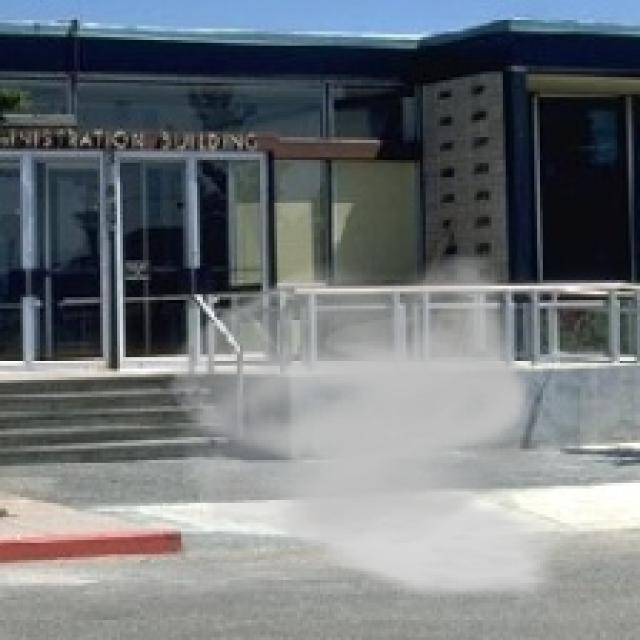Smoke: (154, 254, 577, 603)
